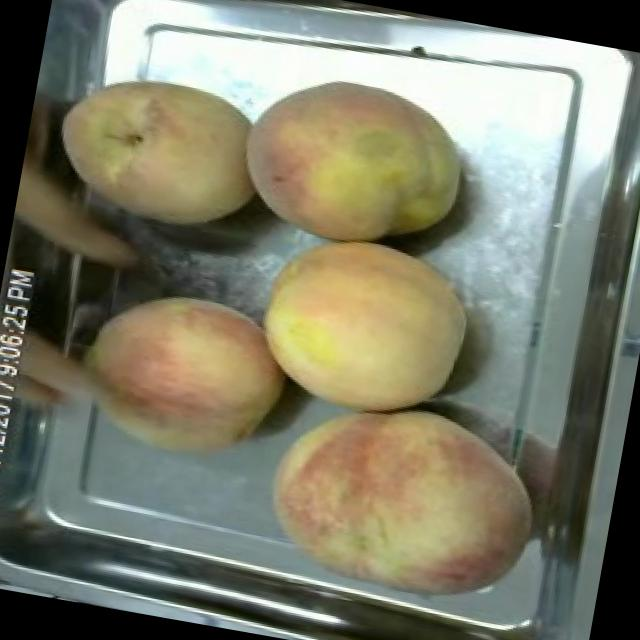Fruit: (240, 372, 560, 636), (233, 213, 488, 437), (224, 51, 484, 262), (31, 47, 286, 262), (69, 265, 308, 479)
